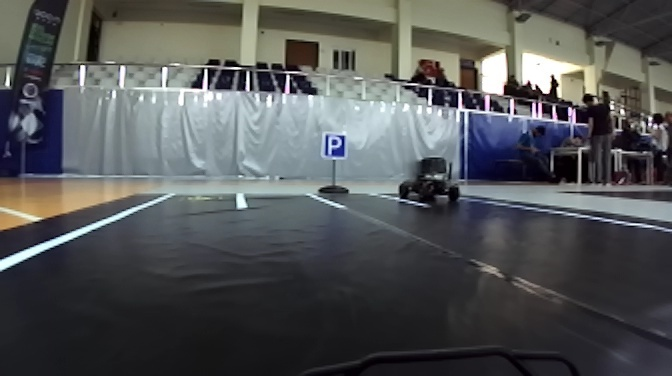park: (321, 130, 350, 162)
